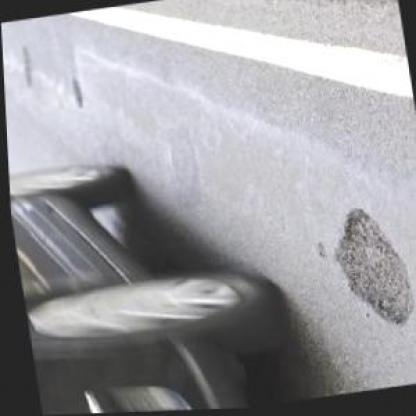pothole: (323, 201, 415, 336)
